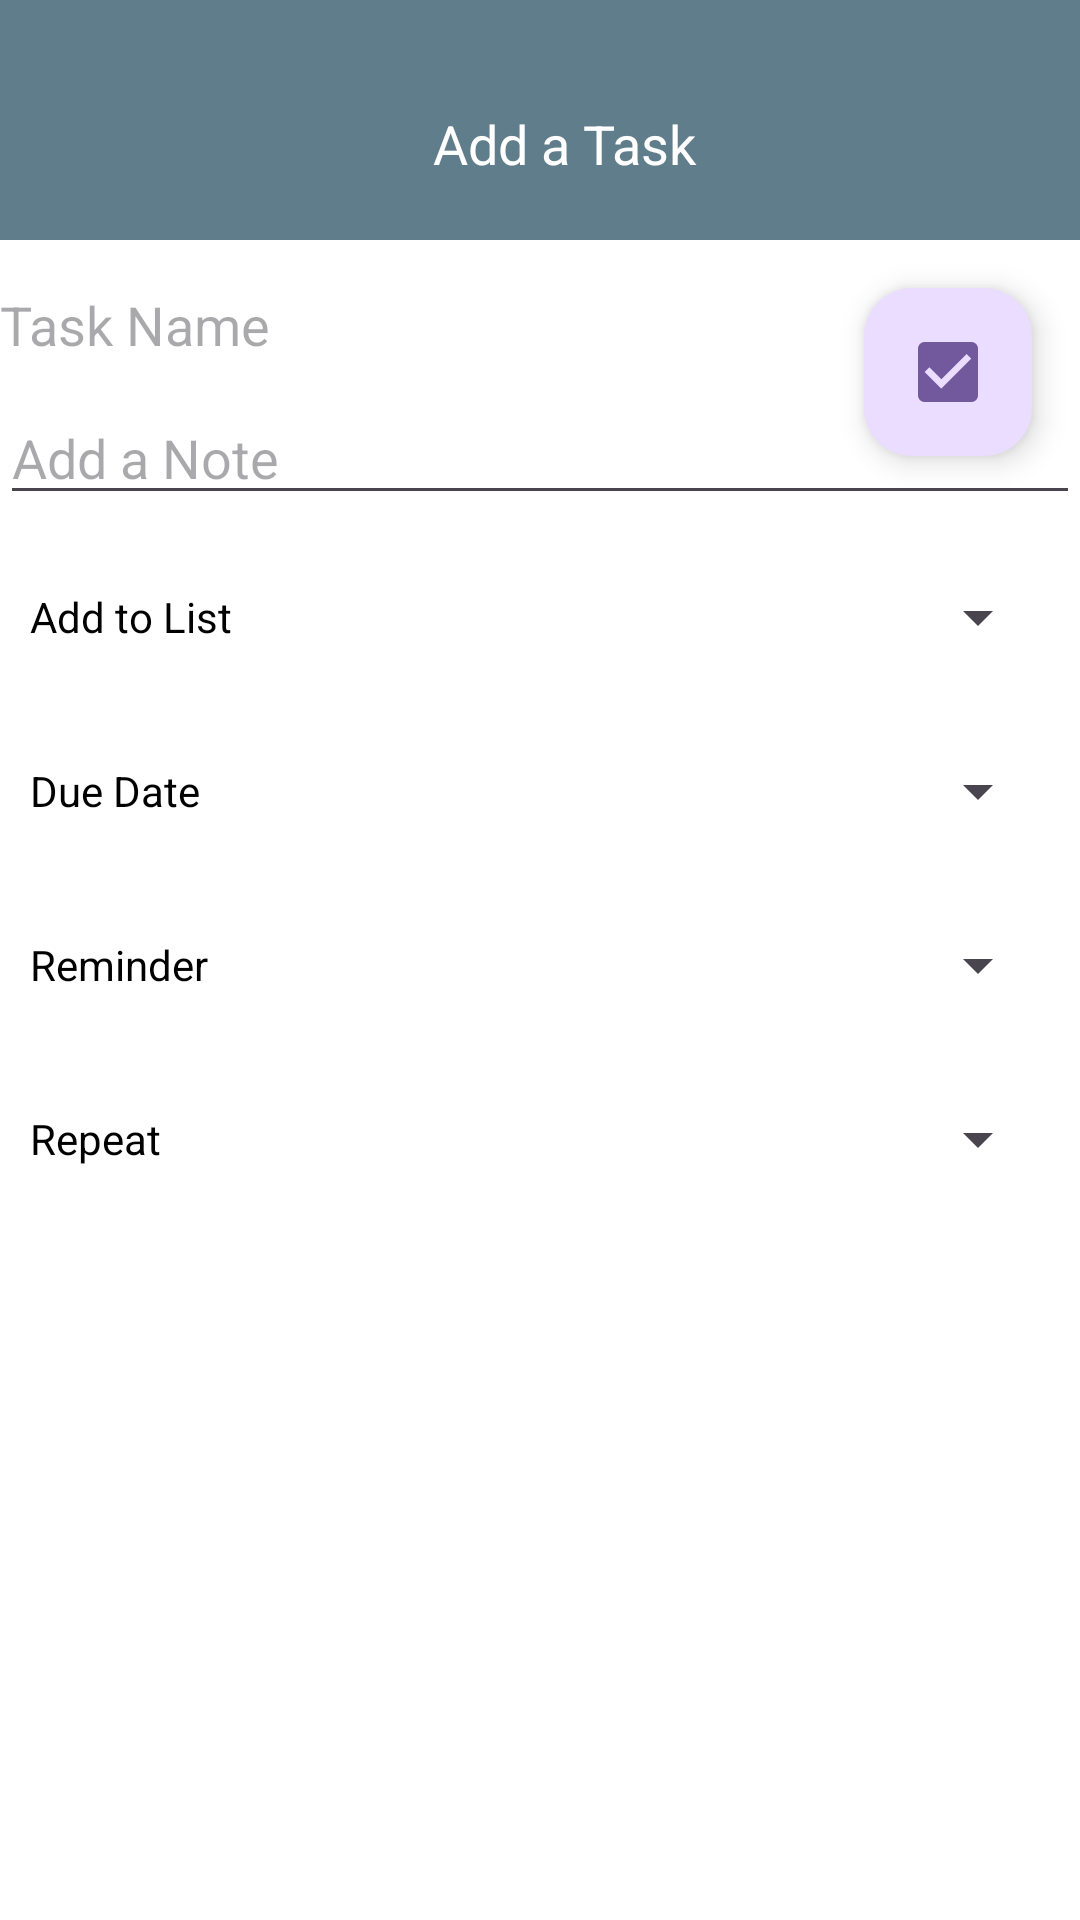

Icons on this 1080w x 1920h Android screen, each with its box as [x1, y1, x2, y2]:
add task check: [918, 342, 978, 402]
